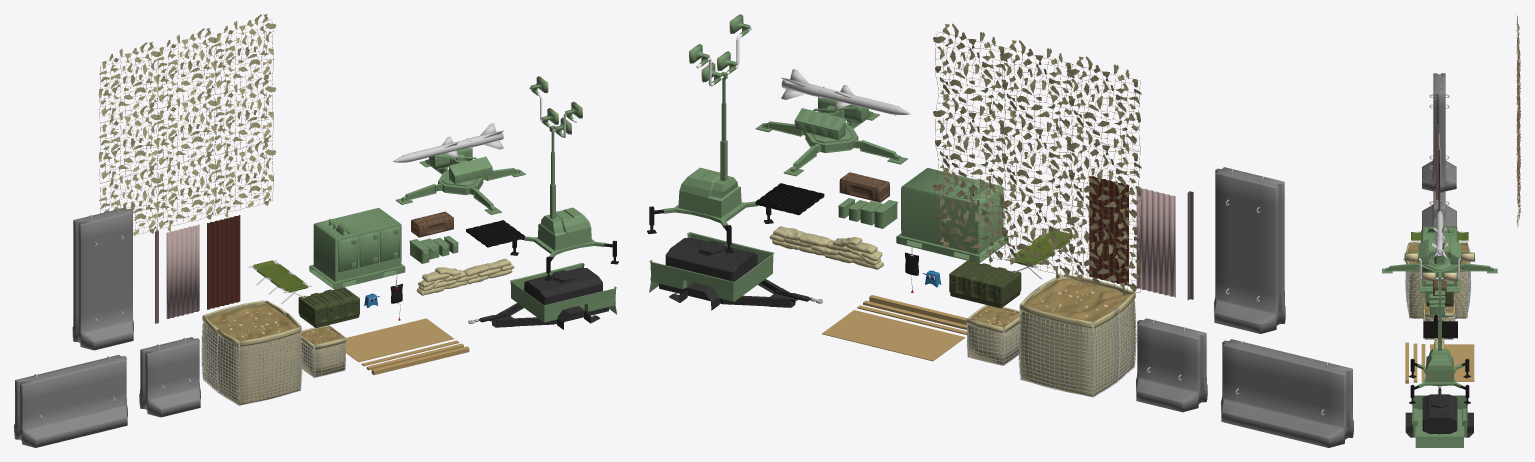
The model's file is outpost_kit.glb.
The picture shows the model from 3 angles, left to right: view 1: azimuth 30°, elevation 25°; view 2: azimuth 150°, elevation 25°; view 3: azimuth 270°, elevation 25°; orthographic projection. The views are drawn at different scales.
Parts seen in each view (by area): view 1: fabric_14, concretebarrier_wide_main_21, concretebarrier_tall_main_18, hesco_large_fabric_27, generator_6, net_15, concretebarrier_small_main_24, hesco_large_wire_29, metal_sheet_02_5, metal_sheet_01_7, plywood_sheet_3, floodlight_main_67 (+16 smaller); view 2: fabric_14, concretebarrier_wide_main_21, concretebarrier_tall_main_18, net_15, hesco_large_fabric_27, generator_6, concretebarrier_small_main_24, hesco_large_wire_29, metal_sheet_01_7, plywood_sheet_3, floodlight_main_67, metal_sheet_02_5 (+17 smaller); view 3: concretebarrier_tall_main_18, Plane.012_71, floodlight_main_67, Plane.014_73, hesco_large_fabric_27, hesco_large_wire_29, generator_6, plywood_sheet_3, concretebarrier_wide_main_21, AAmissile_legs_58, net_15, fabric_14 (+18 smaller).
Boxes of the visible parts, box(x1,y1,x2,y2) form: fabric_14: box(98, 14, 276, 235); concretebarrier_wide_main_21: box(14, 355, 127, 447); concretebarrier_tall_main_18: box(72, 207, 133, 350); hesco_large_fabric_27: box(202, 300, 301, 404); generator_6: box(309, 207, 405, 289); net_15: box(99, 19, 273, 235); concretebarrier_small_main_24: box(139, 337, 200, 417); hesco_large_wire_29: box(201, 301, 302, 405); metal_sheet_02_5: box(207, 215, 240, 309); metal_sheet_01_7: box(166, 224, 199, 318); plywood_sheet_3: box(345, 318, 453, 362); floodlight_main_67: box(524, 125, 604, 258); fabric_14: box(933, 23, 1141, 295); concretebarrier_wide_main_21: box(1221, 339, 1353, 447); concretebarrier_tall_main_18: box(1214, 167, 1285, 333); net_15: box(935, 31, 1140, 292); hesco_large_fabric_27: box(1019, 274, 1135, 396); generator_6: box(896, 168, 1008, 263); concretebarrier_small_main_24: box(1136, 318, 1207, 412); hesco_large_wire_29: box(1018, 274, 1136, 397); metal_sheet_01_7: box(1136, 187, 1175, 297); plywood_sheet_3: box(822, 310, 965, 361); floodlight_main_67: box(663, 71, 757, 227); metal_sheet_02_5: box(1089, 176, 1128, 286); concretebarrier_tall_main_18: box(1422, 73, 1456, 192); Plane.012_71: box(1412, 395, 1467, 447); floodlight_main_67: box(1417, 275, 1462, 387); Plane.014_73: box(1422, 394, 1457, 434); hesco_large_fabric_27: box(1405, 241, 1470, 318); hesco_large_wire_29: box(1405, 242, 1470, 318); generator_6: box(1420, 226, 1459, 292); plywood_sheet_3: box(1430, 344, 1474, 381); concretebarrier_wide_main_21: box(1422, 191, 1456, 229); AAmissile_legs_58: box(1382, 263, 1497, 295); net_15: box(1517, 20, 1520, 226); fabric_14: box(1516, 14, 1520, 228).
Size of the model in its own units: 14.62 by 7.8 by 3.73.
